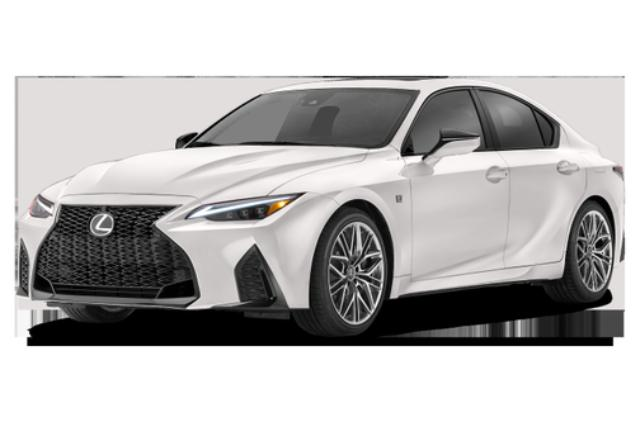lexus: (16, 77, 624, 338)
